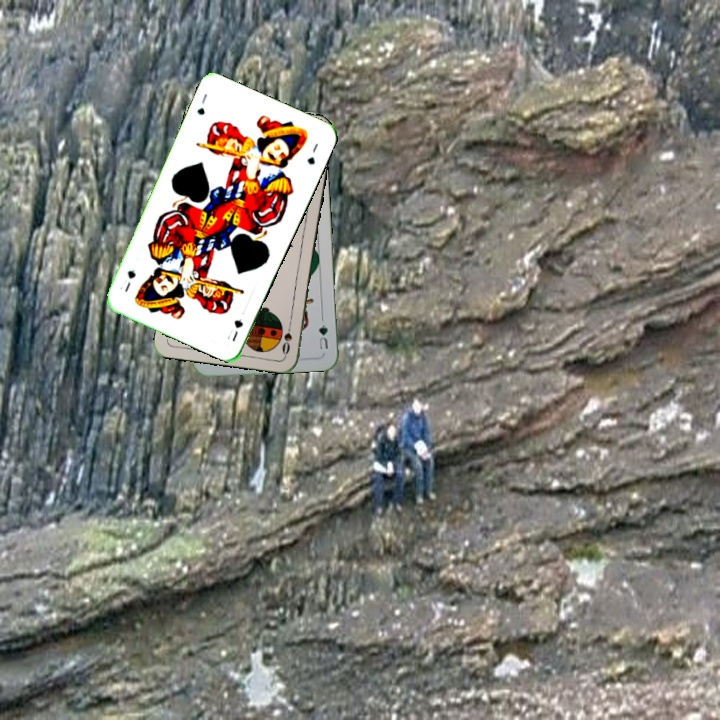GU: (223, 315, 246, 344), (314, 320, 331, 352), (193, 89, 210, 118)
SO: (278, 317, 295, 357)
